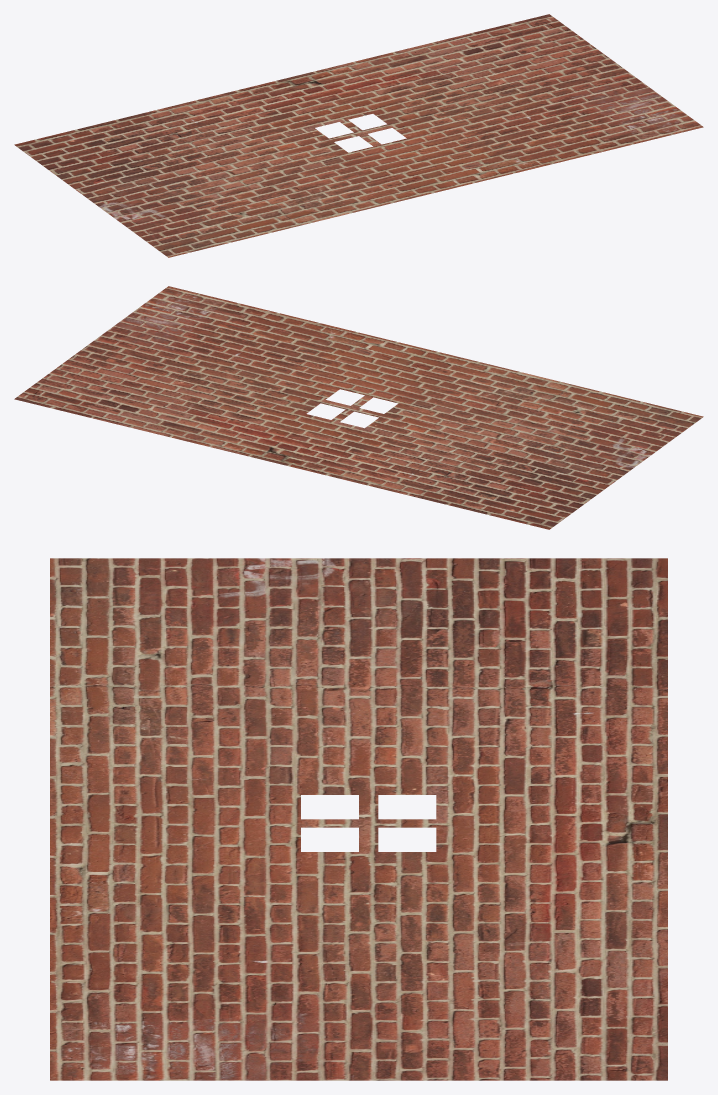
The model's file is wall.fbx.
3 renders of one model, top to bottom at view 1: azimuth 30°, elevation 25°; view 2: azimuth 150°, elevation 25°; view 3: azimuth 270°, elevation 25°, orthographic. The views are drawn at different scales.
Visible parts, largest first — view 1: Plane; view 2: Plane; view 3: Plane.
Boxes of the visible parts, x1,y1,x2,y2 form: Plane: (14,14,703,257); Plane: (14,286,703,529); Plane: (50,558,667,1080).
Bounding box in the file's own units: 200 × 1.63e-05 × 100.
Materials: 1 (1 with a texture image).
